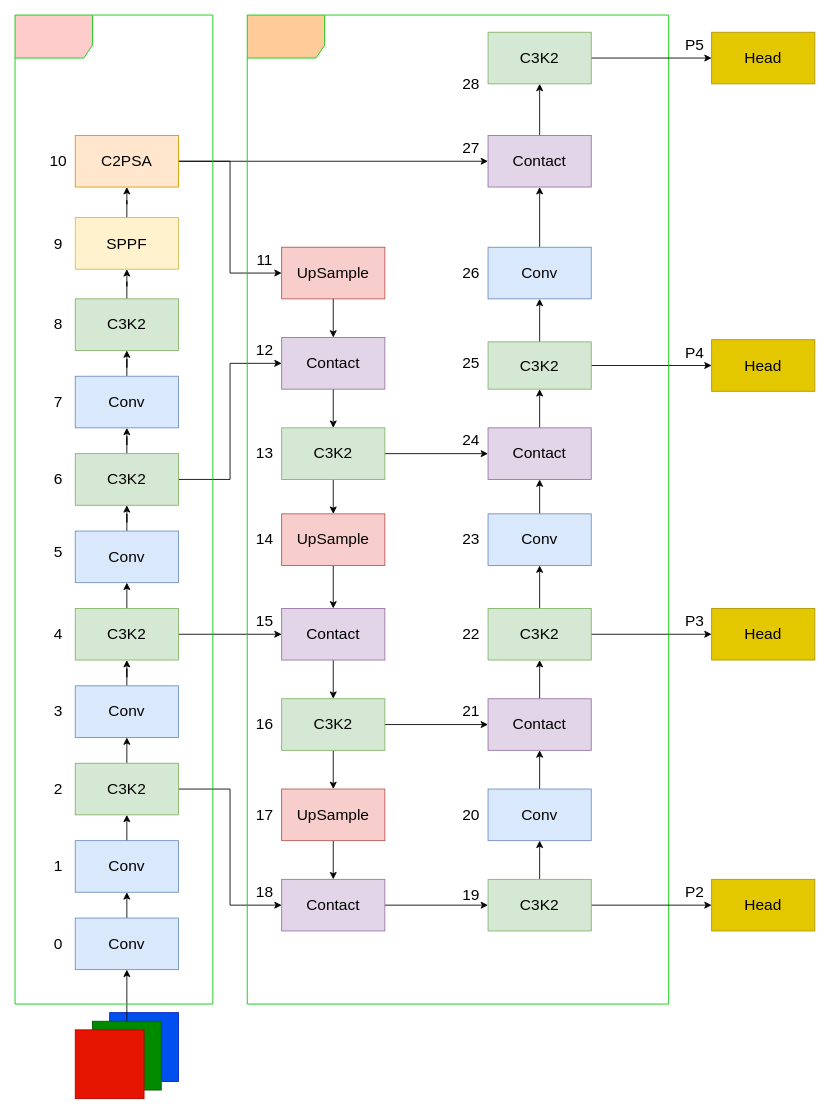
This 830x1114 diagram has some shape labels left out. Each missing label, with the box of its shape:
Backbone: (14, 14, 213, 1004)
Neck: (246, 14, 669, 1004)
